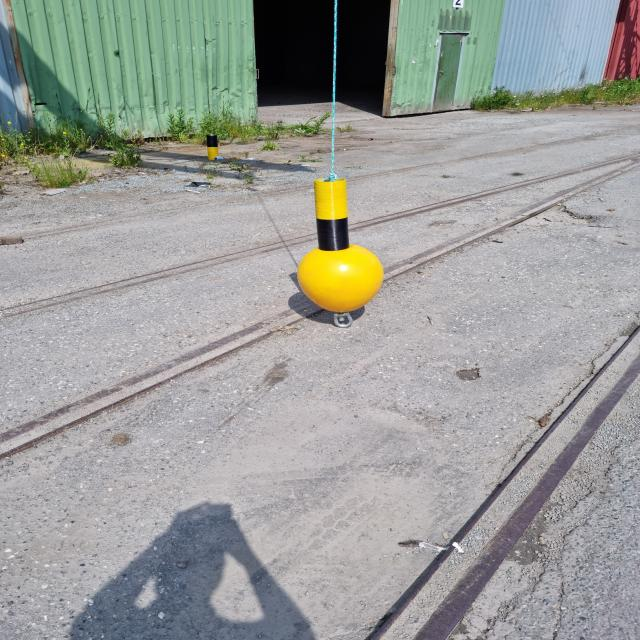west: (296, 178, 387, 312)
